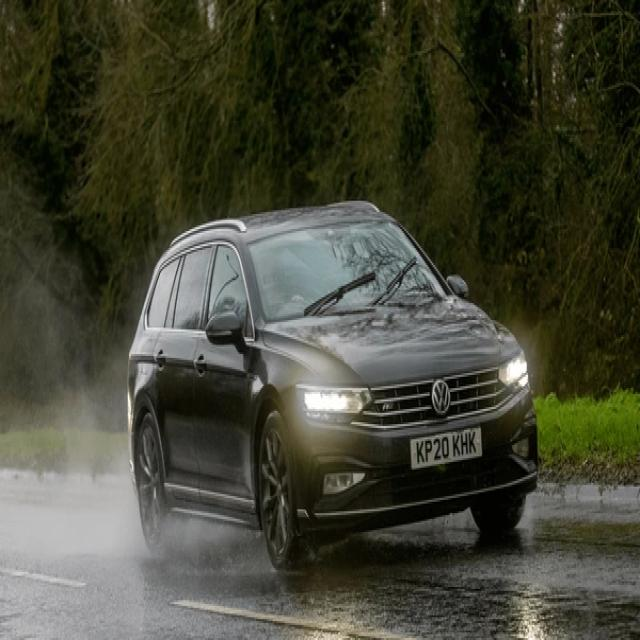wolksvogen: (426, 377, 455, 418)
